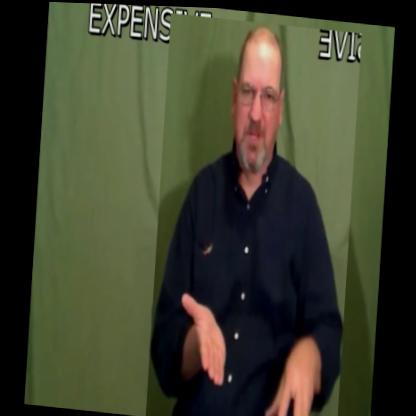Expensive: (142, 11, 363, 416)
